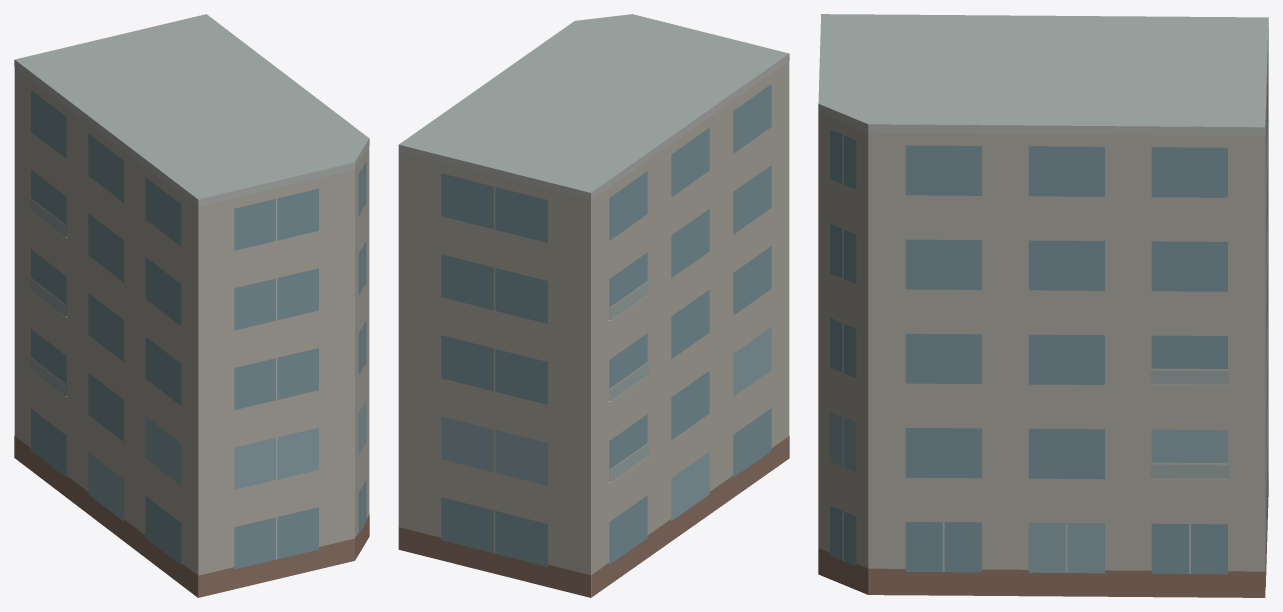
Rendered from survey-upis-32626546.glb.
3 views of the same model, side by side, from view 1: azimuth 30°, elevation 25°; view 2: azimuth 150°, elevation 25°; view 3: azimuth 270°, elevation 25° (orthographic). The views are drawn at different scales.
Parts seen in each view (by area): view 1: survey-upis-32626546.tmp; view 2: survey-upis-32626546.tmp; view 3: survey-upis-32626546.tmp.
Part boxes in pixels (x1=…): survey-upis-32626546.tmp: x1=14, y1=14, x2=369, y2=597; survey-upis-32626546.tmp: x1=398, y1=14, x2=789, y2=597; survey-upis-32626546.tmp: x1=818, y1=14, x2=1268, y2=597.
Bounding box in the file's own units: 6.79 × 13.1 × 11.37.
